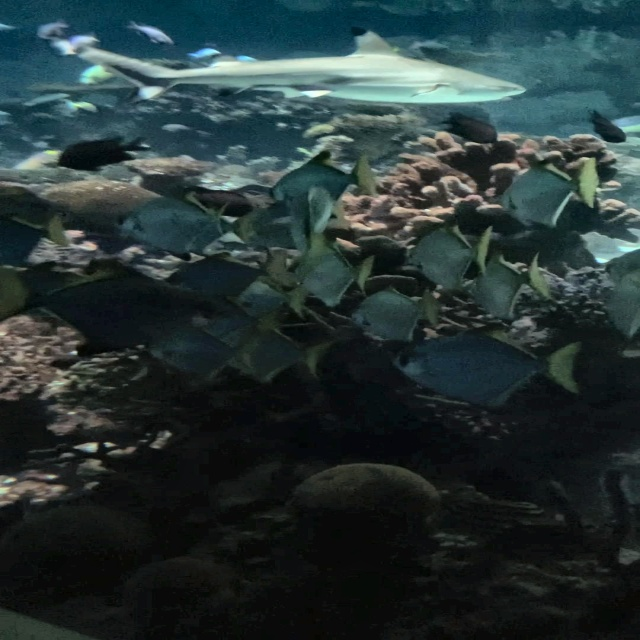fish: (22, 262, 209, 349), (430, 244, 606, 331), (375, 336, 572, 411), (395, 217, 572, 281), (186, 301, 292, 385), (199, 207, 359, 262), (249, 146, 396, 204), (78, 193, 235, 246), (490, 153, 594, 224), (264, 254, 393, 308), (55, 136, 151, 174), (439, 112, 501, 144), (587, 109, 626, 144), (78, 62, 119, 87), (39, 21, 68, 43), (136, 28, 173, 45), (408, 41, 451, 55), (185, 48, 221, 59)
shark: (40, 24, 526, 102)
